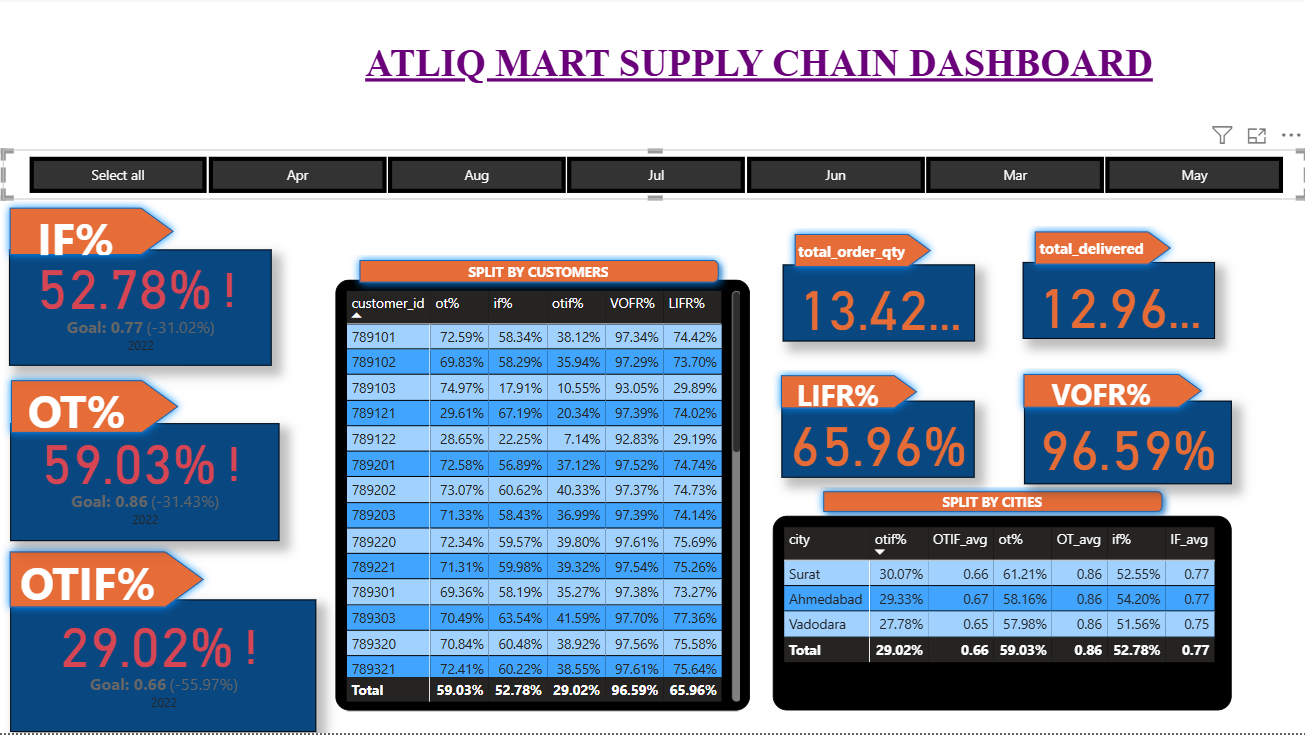

Layout of this report page (visuals, bound fields, positions):
{"tool":"powerbi","page":{"name":"Page 1","canvas":[1280,720],"ordinal":0},"visuals":[{"type":"kpi","fields":{"Indicator":["fact_orders_aggregate.if%"],"TrendLine":["fact_order_lines.Year"],"Goal":["dim_targets_orders.IF_avg"]},"box":[10,246.6,256.4,114],"z":0,"group":"g3"},{"type":"card","fields":{"Values":["Sum(fact_order_lines.delivery_qty)"]},"box":[1001.7,259.5,188.3,75],"z":0,"group":"g8"},{"type":"card","fields":{"Values":["Sum(fact_order_lines.order_qty)"]},"box":[766.7,261.1,188.3,75],"z":0,"group":"g7"},{"type":"pivotTable","fields":{"Rows":["dim_customers.customer_id"],"Values":["fact_orders_aggregate.ot%","fact_orders_aggregate.if%","fact_orders_aggregate.otif%","fact_order_lines.VOFR%","fact_order_lines.LIFR%"]},"box":[350.8,285.9,383.8,403.6],"z":0,"group":"g4"},{"type":"card","fields":{"Values":["fact_order_lines.VOFR%"]},"box":[1002.4,393.8,202.9,81.4],"z":0,"group":"g6"},{"type":"card","fields":{"Values":["fact_order_lines.LIFR%"]},"box":[764.7,394.9,188.7,75.1],"z":0,"group":"g5"},{"type":"kpi","fields":{"TrendLine":["fact_order_lines.Year"],"Indicator":["fact_orders_aggregate.ot%"],"Goal":["dim_targets_orders.OT_avg"]},"box":[11.4,417.2,262.8,114.9],"z":0,"group":"g2"},{"type":"group","id":"g1","title":"Group 1","box":[2.4,534.2,308,185.8],"z":0},{"type":"kpi","fields":{"TrendLine":["fact_order_lines.Year"],"Goal":["dim_targets_orders.OTIF_avg"],"Indicator":["fact_orders_aggregate.otif%"]},"box":[11.3,589.4,299.2,129.4],"z":0,"group":"g1"},{"type":"shape","box":[2.4,198,176.7,62.3],"z":1000,"group":"g3"},{"type":"shape","box":[1005,221.7,149.5,48.5],"z":1000,"group":"g8"},{"type":"shape","box":[770,223.3,149.5,48.5],"z":1000,"group":"g7"},{"type":"shape","box":[364.4,259.2,349.3,38.5],"z":1000,"group":"g4"},{"type":"shape","box":[993.3,360,190.8,49.1],"z":1000,"group":"g6"},{"type":"shape","box":[756.7,361.7,149.5,48.5],"z":1000,"group":"g5"},{"type":"group","id":"g2","title":"Group 1","box":[3.7,366.7,270.6,165.4],"z":1000},{"type":"shape","box":[3.7,366.7,179.9,67.6],"z":1000,"group":"g2"},{"type":"shape","box":[2.4,534.2,206.1,70.7],"z":1000,"group":"g1"},{"type":"shape","box":[796.6,474.1,349.8,38.3],"z":2000},{"type":"group","id":"g3","title":"Group 1","box":[2.4,198,265.3,162.6],"z":3000},{"type":"pivotTable","fields":{"Rows":["dim_customers.city"],"Values":["fact_orders_aggregate.otif%","dim_targets_orders.OTIF_avg","fact_orders_aggregate.ot%","dim_targets_orders.OT_avg","fact_orders_aggregate.if%","dim_targets_orders.IF_avg"]},"box":[757.2,507.3,427.8,190.2],"z":4000},{"type":"group","id":"g4","title":"Group 2","box":[350.8,259.2,383.8,430.3],"z":5000},{"type":"textbox","box":[310.5,37.9,865.5,62.3],"z":6000},{"type":"group","id":"g5","title":"Group 1","box":[756.7,361.7,195,108.3],"z":7000},{"type":"group","id":"g6","title":"Group 1","box":[993.3,360,211.7,115],"z":8000},{"type":"slicer","fields":{"Values":["fact_order_lines.Month"]},"box":[4.1,148.9,1276.2,49.2],"z":9000},{"type":"group","id":"g7","title":"Group 1","box":[766.7,223.3,188.3,113.3],"z":10000},{"type":"group","id":"g8","title":"Group 1","box":[1001.7,221.7,188.3,113.3],"z":11000}]}

Visuals, with their boxes in screenshot pixels (x1, y1, x2, y2), scaled from the page's 1280x720 canvas onto the 1305x735 screenshot:
kpi - fact_orders_aggregate.if% x fact_order_lines.Year: pyautogui.locateOnScreen(10, 252, 272, 368)
card - Sum(fact_order_lines.delivery_qty): pyautogui.locateOnScreen(1021, 265, 1213, 341)
card - Sum(fact_order_lines.order_qty): pyautogui.locateOnScreen(782, 267, 974, 343)
pivotTable - dim_customers.customer_id x fact_orders_aggregate.ot%: pyautogui.locateOnScreen(358, 292, 749, 704)
card - fact_order_lines.VOFR%: pyautogui.locateOnScreen(1022, 402, 1229, 485)
card - fact_order_lines.LIFR%: pyautogui.locateOnScreen(780, 403, 972, 480)
kpi - fact_order_lines.Year x fact_orders_aggregate.ot%: pyautogui.locateOnScreen(12, 426, 280, 543)
"Group 1" group: pyautogui.locateOnScreen(2, 545, 316, 734)
kpi - fact_order_lines.Year x dim_targets_orders.OTIF_avg: pyautogui.locateOnScreen(12, 602, 317, 734)
shape: pyautogui.locateOnScreen(2, 202, 183, 266)
shape: pyautogui.locateOnScreen(1025, 226, 1177, 276)
shape: pyautogui.locateOnScreen(785, 228, 937, 277)
shape: pyautogui.locateOnScreen(372, 265, 728, 304)
shape: pyautogui.locateOnScreen(1013, 368, 1207, 418)
shape: pyautogui.locateOnScreen(771, 369, 924, 419)
"Group 1" group: pyautogui.locateOnScreen(4, 374, 280, 543)
shape: pyautogui.locateOnScreen(4, 374, 187, 443)
shape: pyautogui.locateOnScreen(2, 545, 213, 618)
shape: pyautogui.locateOnScreen(812, 484, 1169, 523)
"Group 1" group: pyautogui.locateOnScreen(2, 202, 273, 368)
pivotTable - dim_customers.city x fact_orders_aggregate.otif%: pyautogui.locateOnScreen(772, 518, 1208, 712)
"Group 2" group: pyautogui.locateOnScreen(358, 265, 749, 704)
textbox: pyautogui.locateOnScreen(317, 39, 1199, 102)
"Group 1" group: pyautogui.locateOnScreen(771, 369, 970, 480)
"Group 1" group: pyautogui.locateOnScreen(1013, 368, 1229, 485)
slicer - fact_order_lines.Month: pyautogui.locateOnScreen(4, 152, 1304, 202)
"Group 1" group: pyautogui.locateOnScreen(782, 228, 974, 344)
"Group 1" group: pyautogui.locateOnScreen(1021, 226, 1213, 342)
